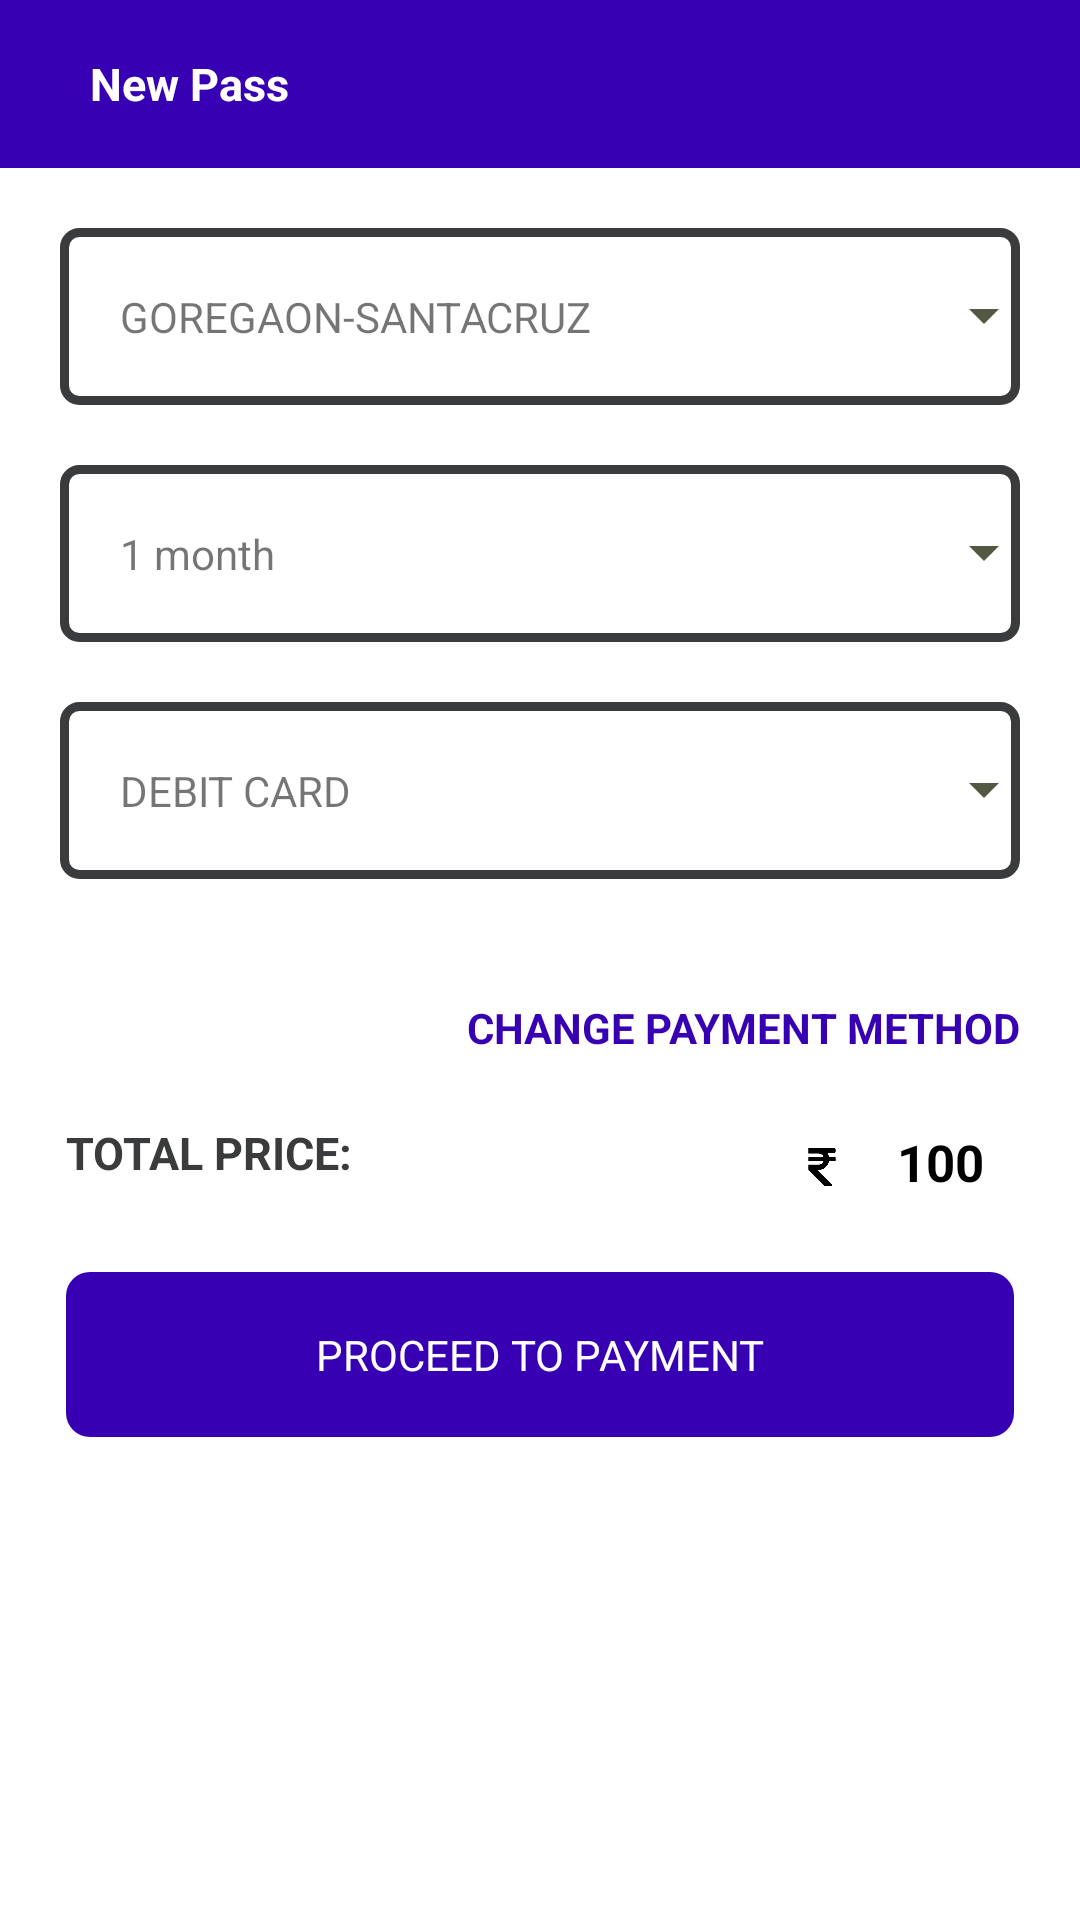

Icons on this 1080px×1920px Android screen, each with its box as (x1, y1, x2, y2):
rupee: (808, 1148, 836, 1186)
